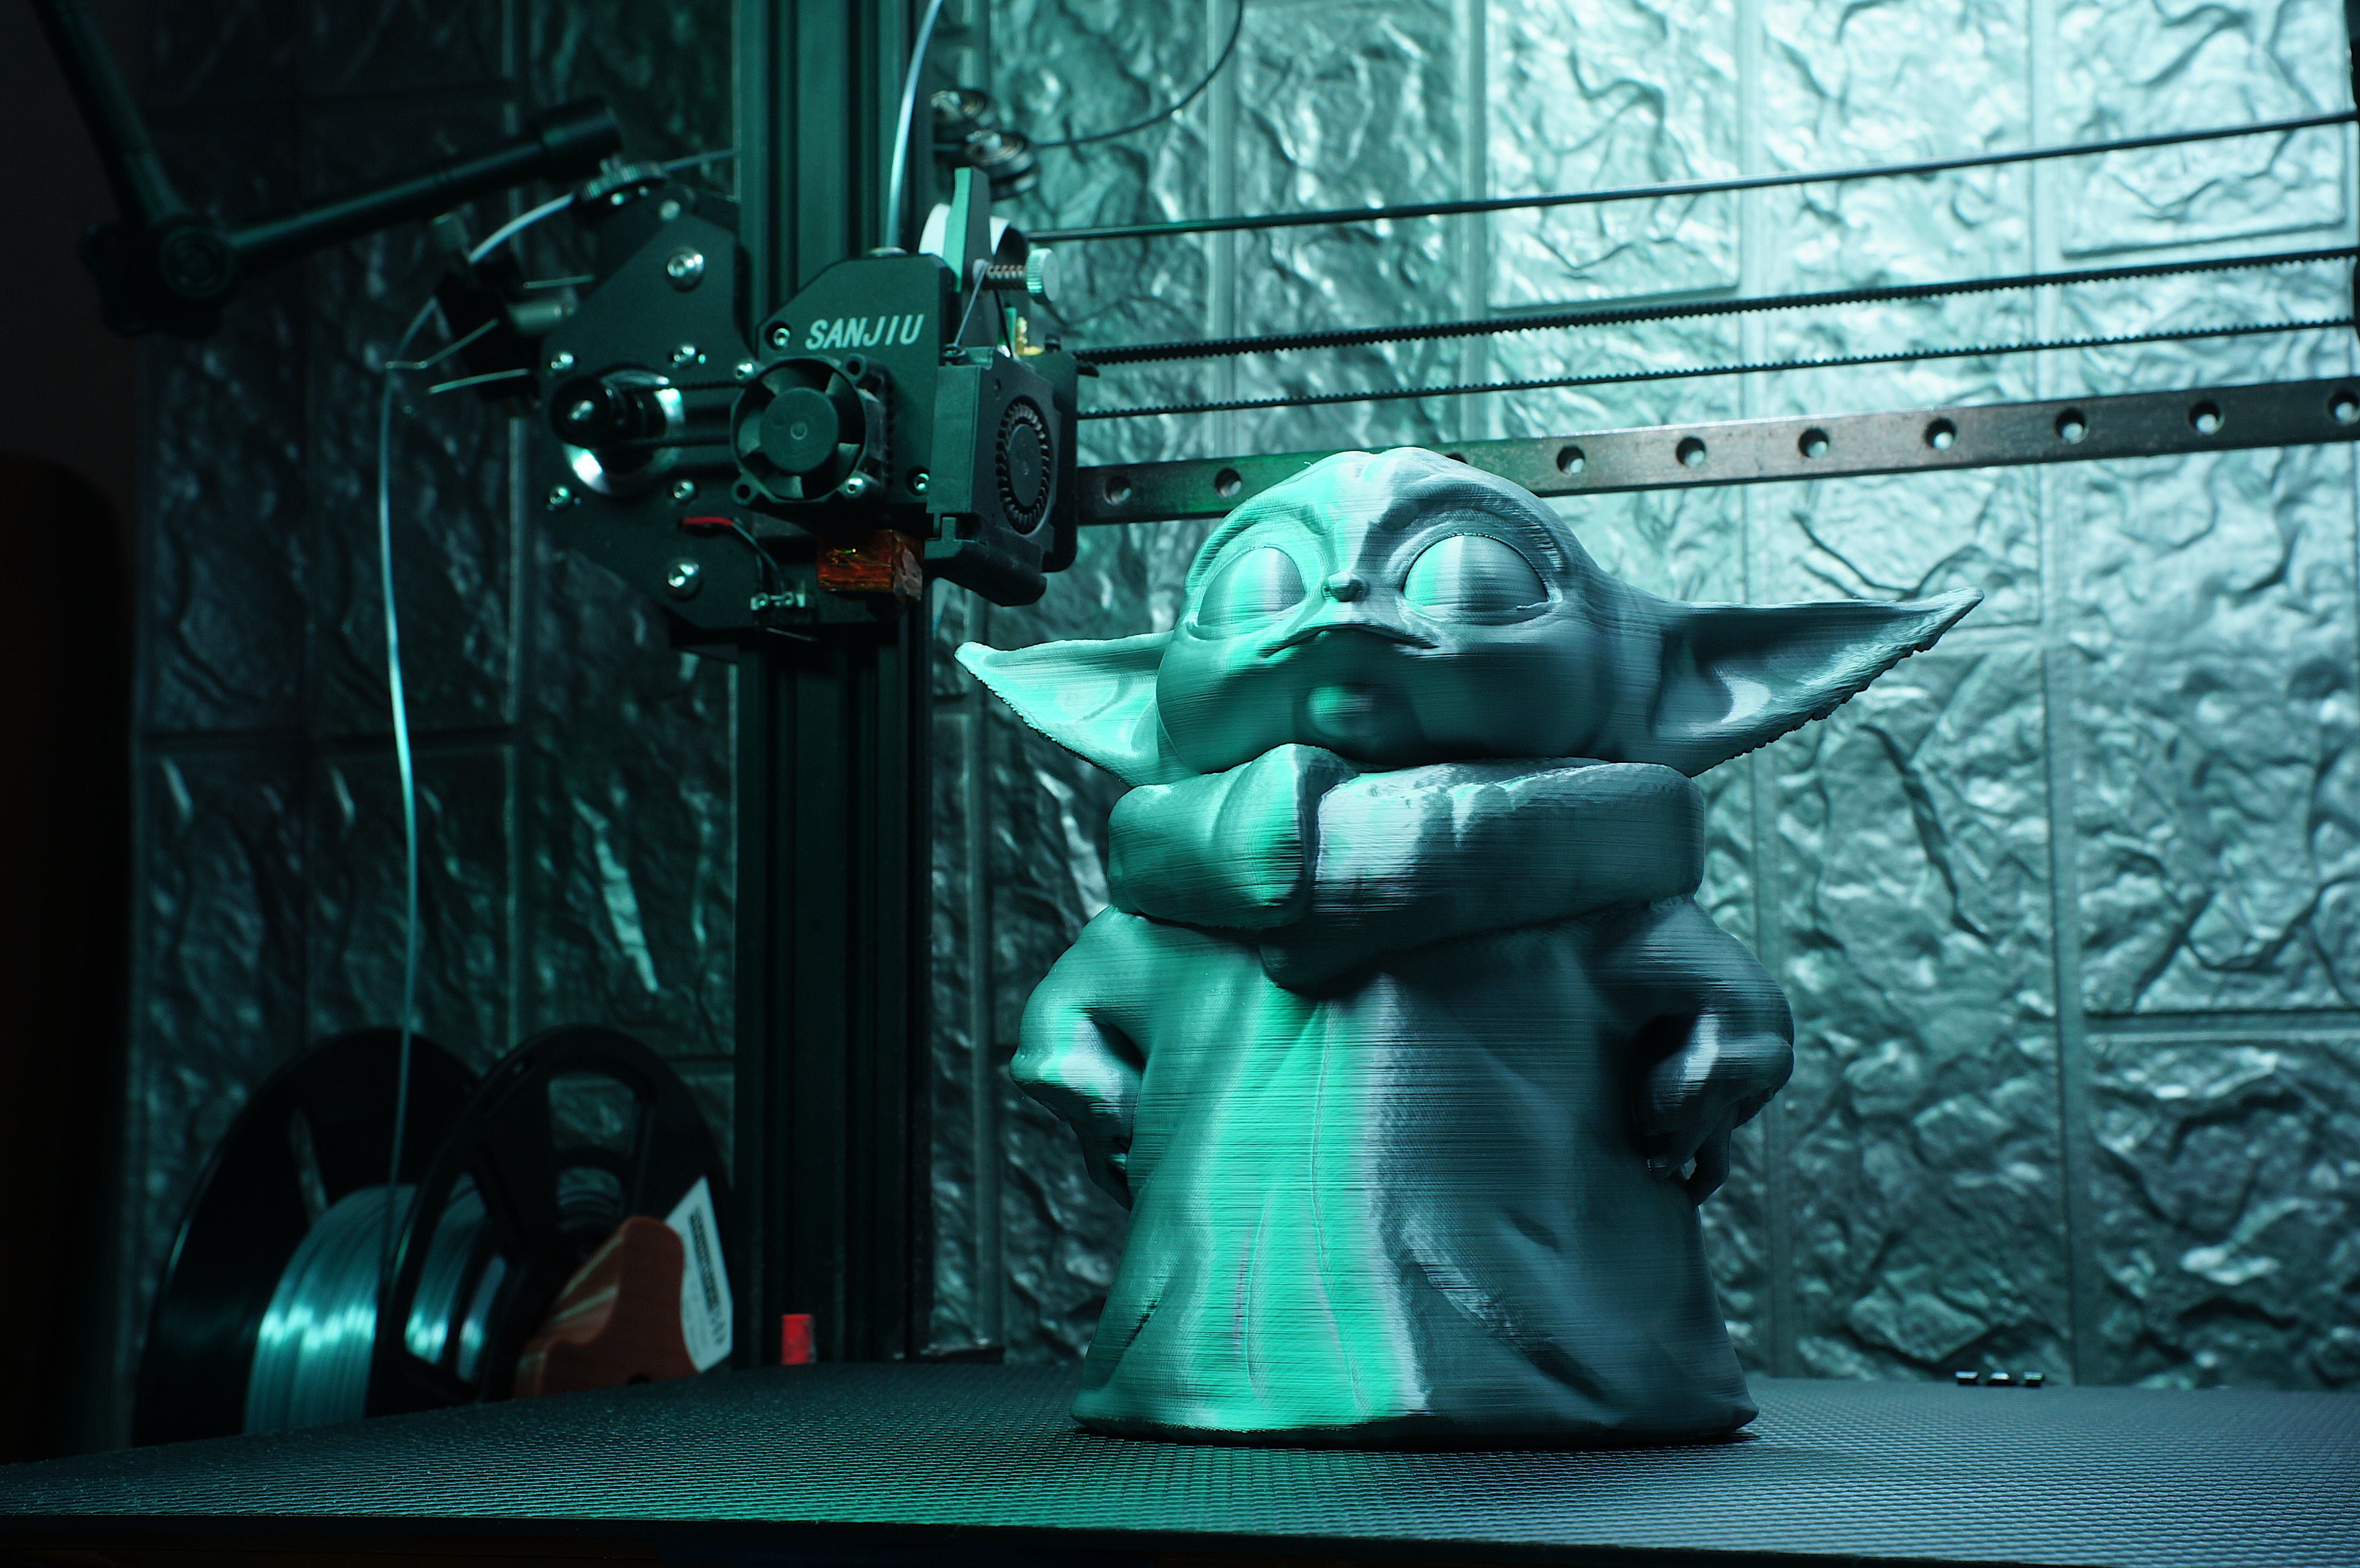Good: (929, 416, 2047, 1465)
